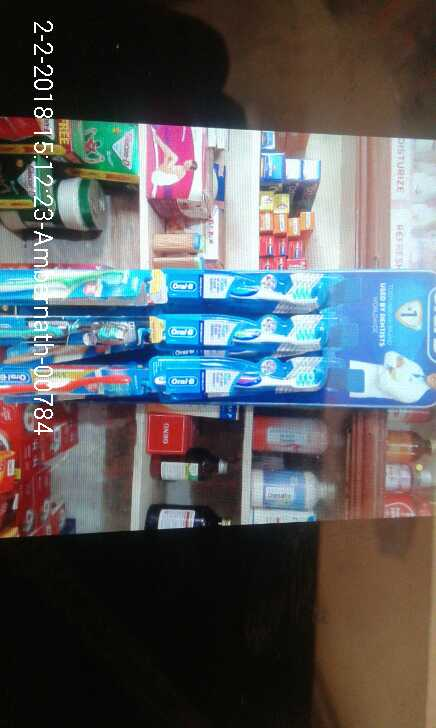oralb: (152, 258, 335, 317), (146, 356, 314, 395), (151, 311, 315, 350), (3, 303, 147, 346), (4, 363, 144, 401), (1, 267, 142, 302)
